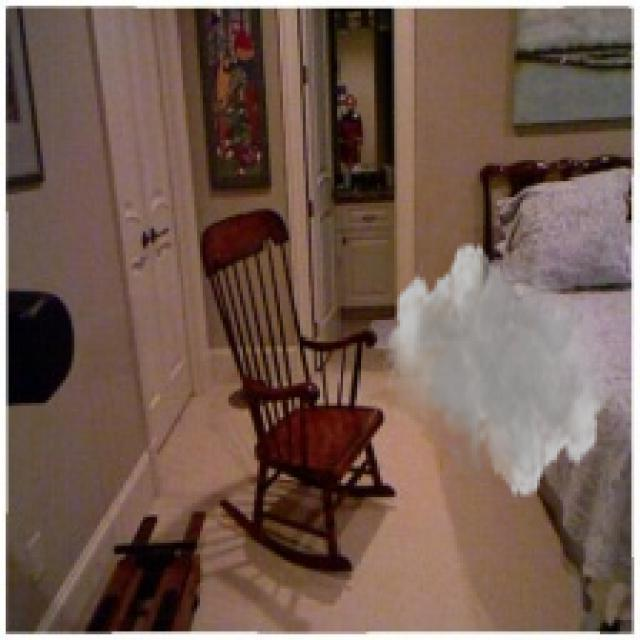Smoke: (383, 240, 611, 500)
